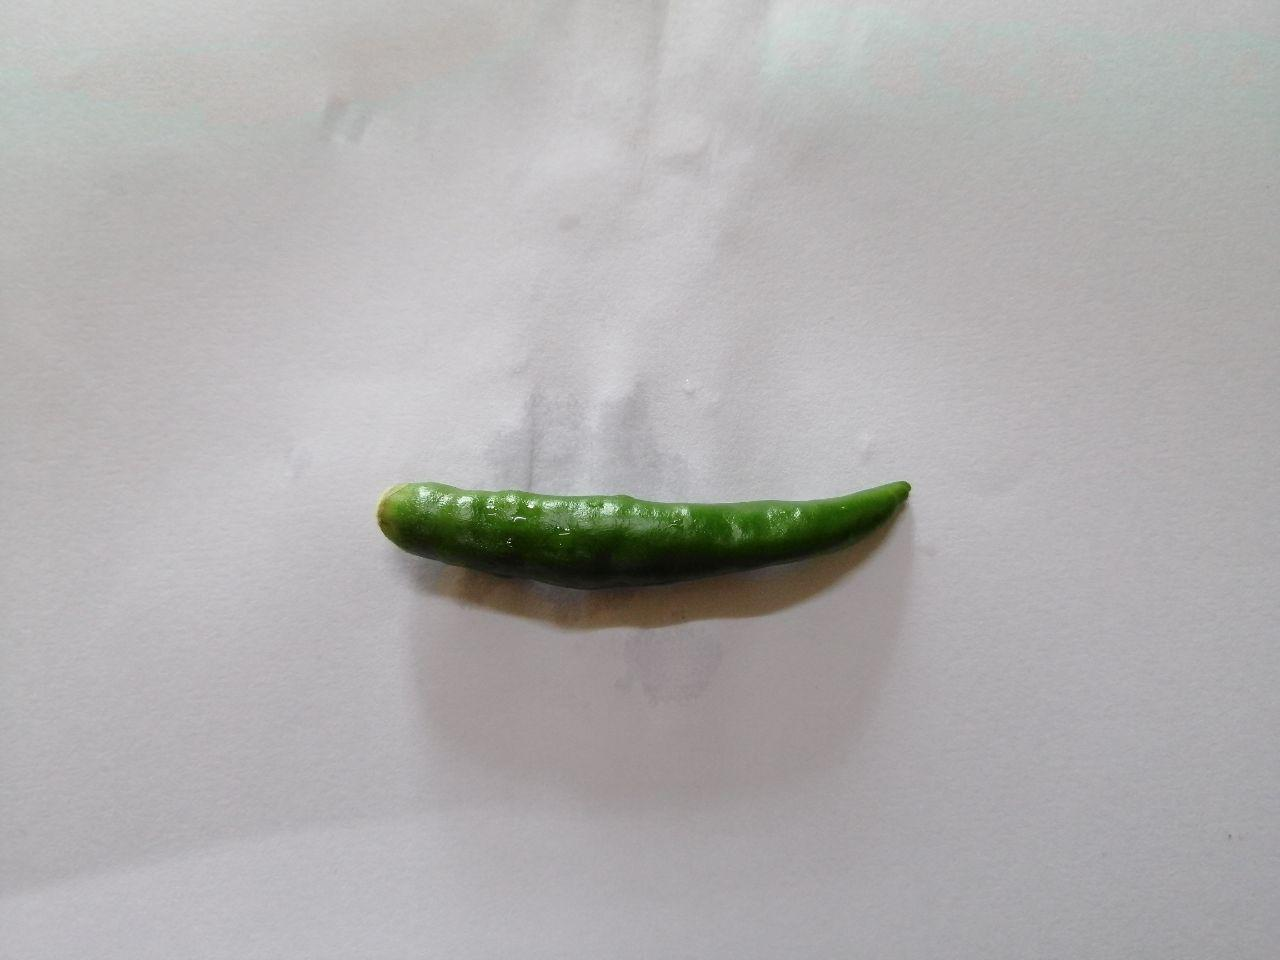lada hijau: (360, 455, 934, 592)
